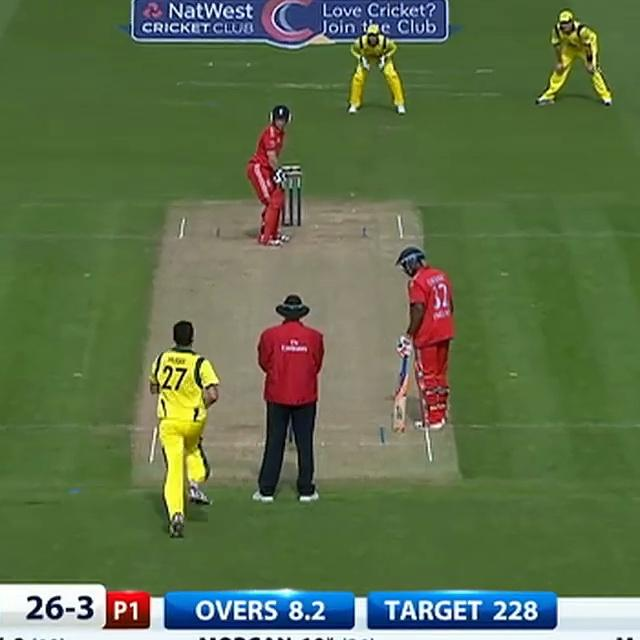umpire: (243, 286, 337, 506)
